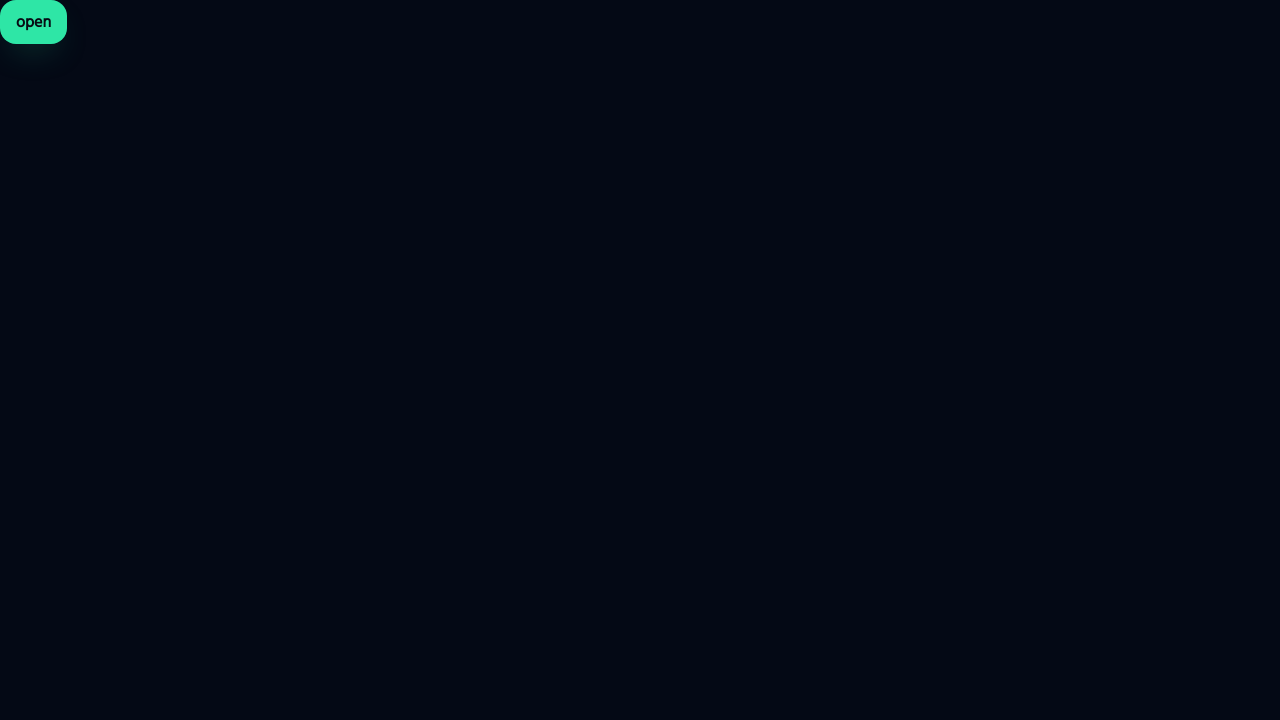
Scenario: CitationSheet › FR-70 closes with the close button and returns focus to the control that opened it
Click the button "open". click: (34, 22)
box: [0,0,67,44]
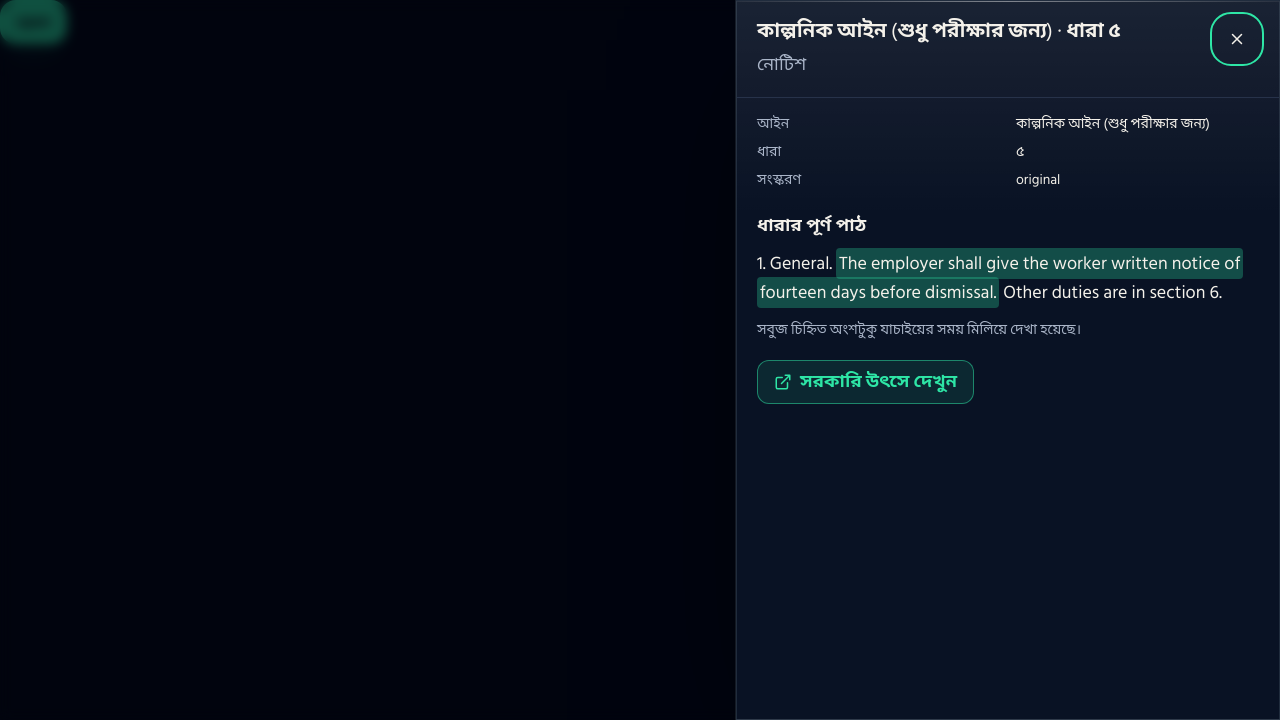
Check: the dialog is shown, box [736,0,1279,719]
Click the button named "বন্ধ করুন". click: (1237, 39)
box: [1215,17,1259,61]
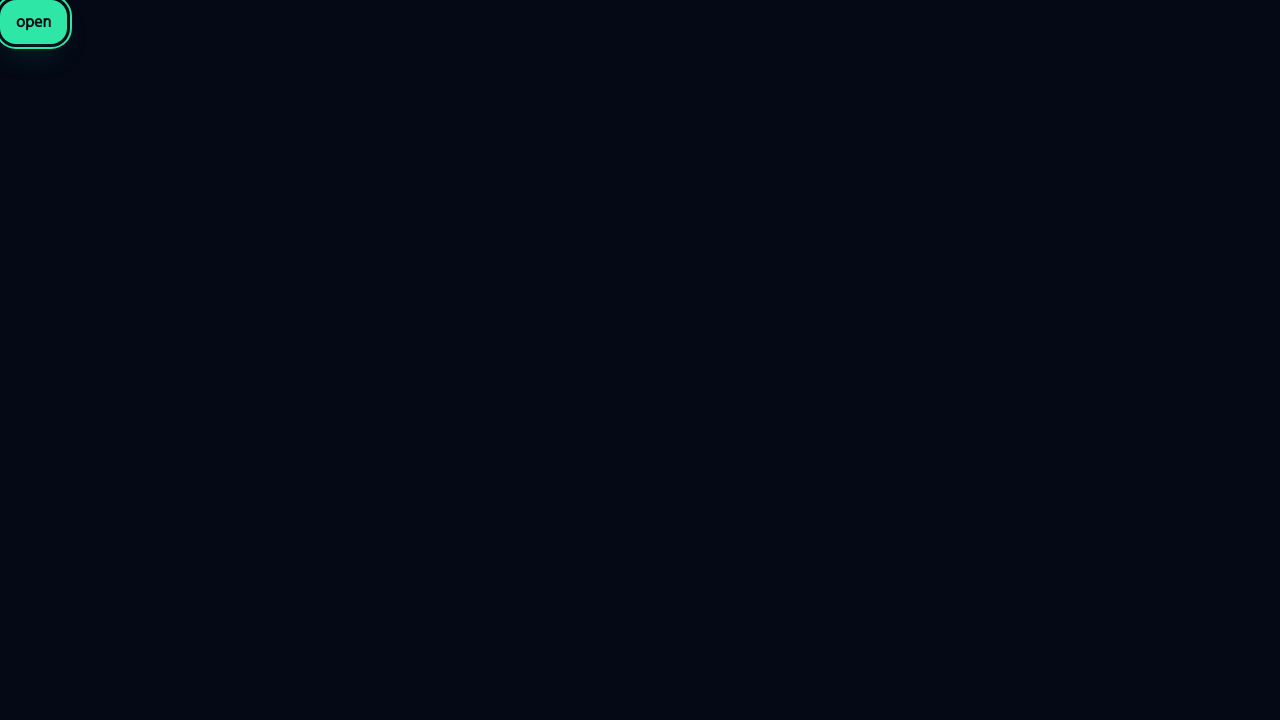
Check: the dialog is gone
